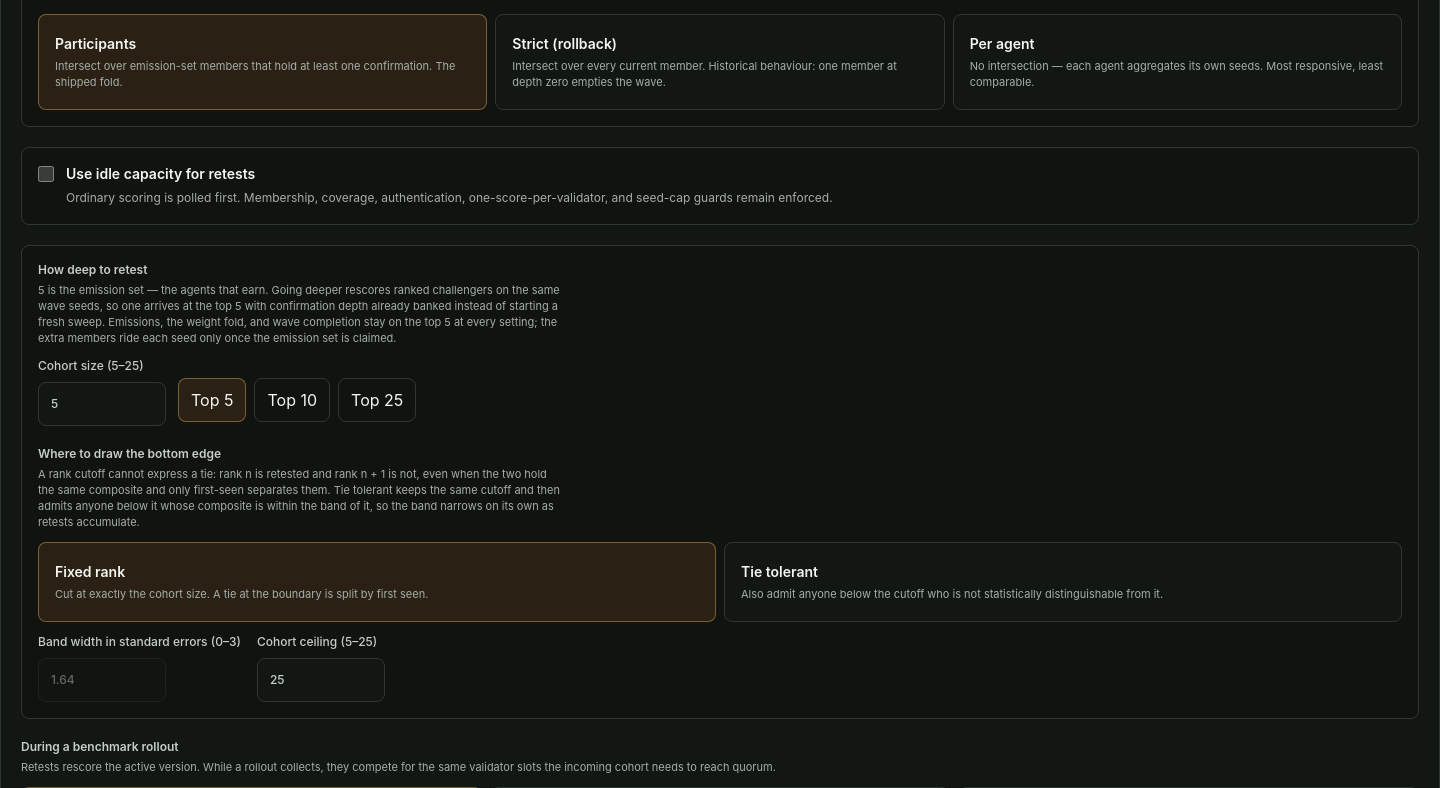
ContinualRetestControlPanel › says so when the ranking cannot fill the requested cohort
(page scrolled)
Replace the text in the number field labelled "Cohort size (5–25)" with "25": (102, 404) [38, 382, 166, 426]
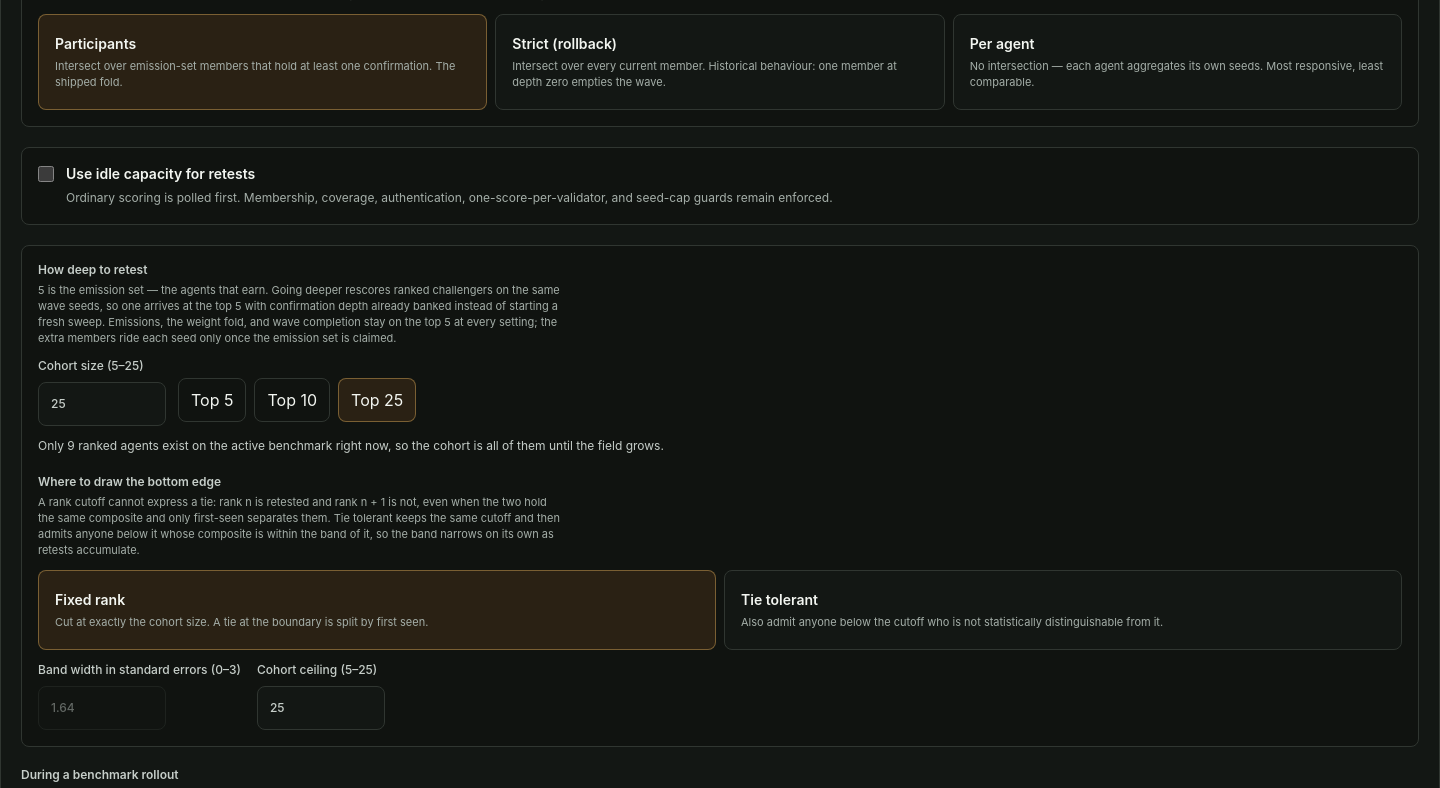
Check: the text "Only 9 ranked agents exist" is shown, box [38, 438, 664, 453]
